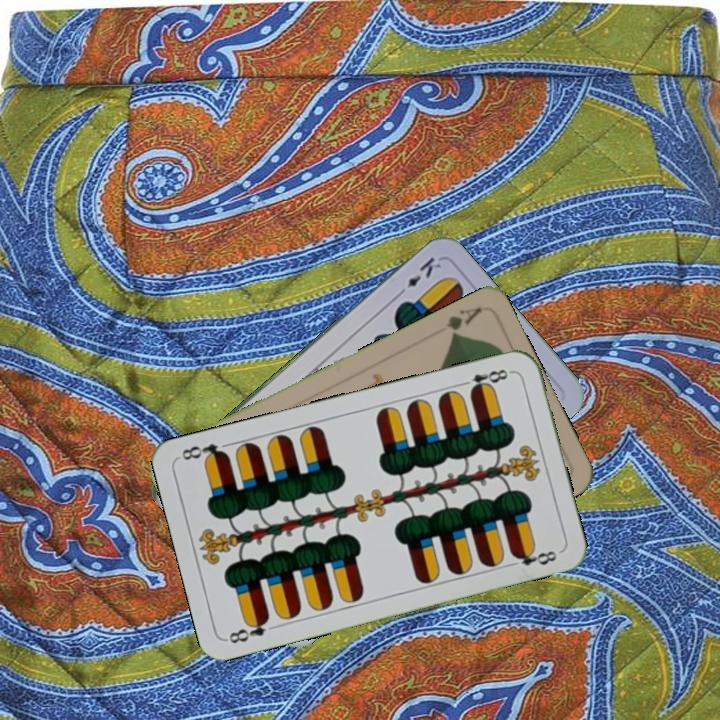E8: (456, 365, 515, 396), (223, 613, 272, 646)
EK: (392, 252, 444, 300)
GA: (443, 303, 485, 342)
